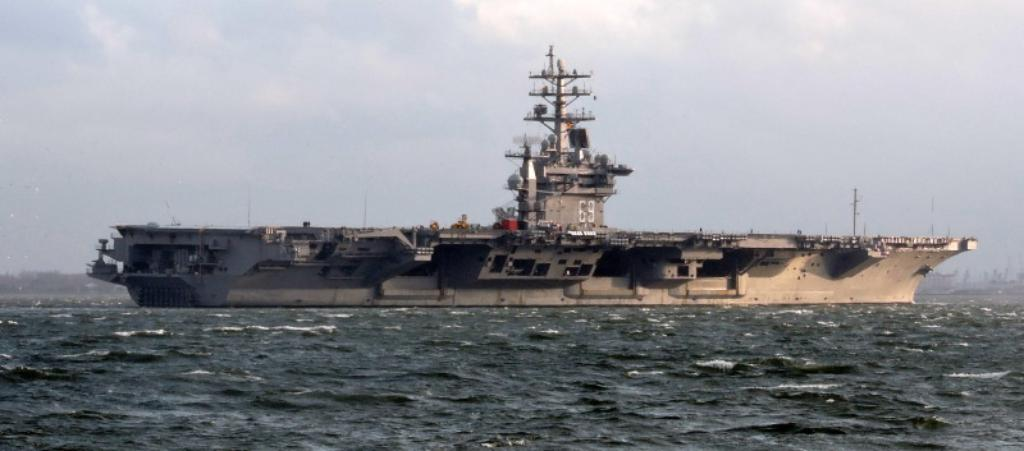Warship: (86, 39, 986, 314)
